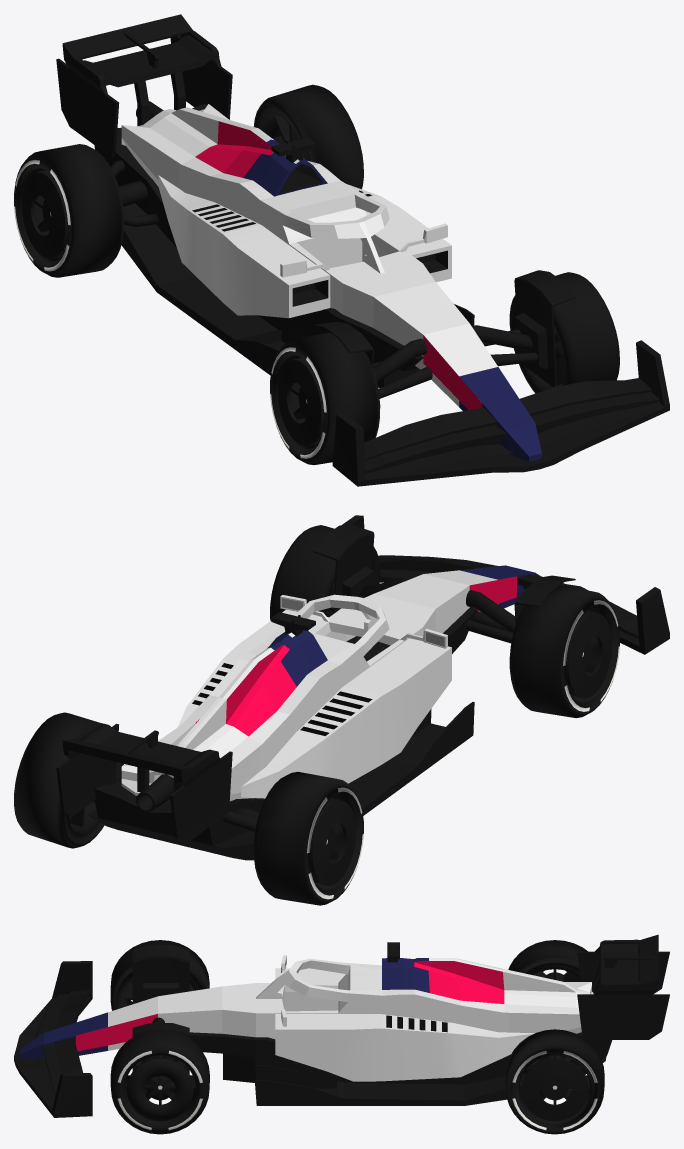
The model's file is redbullvisa_car.glb.
3 views of the same model, one above another, from view 1: azimuth 30°, elevation 25°; view 2: azimuth 150°, elevation 25°; view 3: azimuth 270°, elevation 25° (orthographic). The views are drawn at different scales.
Visible parts, largest first — view 1: Base Unsubsurfed, Front Wing Base, Sidepod, Rear Wing, Bottom, RR_Tire, FR_Tire, FL_Tire, RL_Tire, L_Inside Cover, FRod, RRod (+1 smaller); view 2: Base Unsubsurfed, Sidepod, RR_Tire, FR_Tire, Rear Wing, Bottom, RL_Tire, Front Wing Base, FL_Tire, L_Inside Cover, FRod, R_Inside Cover (+3 smaller); view 3: Base Unsubsurfed, Sidepod, Bottom, RL_Tire, FL_Tire, Rear Wing, Front Wing Base, R_Inside Cover, RR_Tire, FR_Tire, L_Inside Cover.
Part boxes in pixels (bbox=[...]): Base Unsubsurfed: bbox=[121, 104, 541, 461]; Front Wing Base: bbox=[332, 340, 669, 486]; Sidepod: bbox=[158, 175, 451, 318]; Rear Wing: bbox=[56, 14, 232, 157]; Bottom: bbox=[94, 103, 474, 387]; RR_Tire: bbox=[14, 144, 124, 277]; FR_Tire: bbox=[270, 332, 380, 464]; FL_Tire: bbox=[509, 272, 619, 393]; RL_Tire: bbox=[253, 84, 363, 189]; L_Inside Cover: bbox=[514, 270, 575, 387]; FRod: bbox=[373, 325, 538, 398]; RRod: bbox=[110, 160, 158, 227]; Base Unsubsurfed: bbox=[121, 565, 539, 801]; Sidepod: bbox=[178, 609, 451, 798]; RR_Tire: bbox=[253, 771, 363, 905]; FR_Tire: bbox=[509, 585, 619, 718]; Rear Wing: bbox=[56, 722, 232, 843]; Bottom: bbox=[87, 607, 477, 860]; RL_Tire: bbox=[14, 712, 123, 848]; Front Wing Base: bbox=[342, 515, 669, 654]; FL_Tire: bbox=[270, 525, 380, 620]; L_Inside Cover: bbox=[313, 524, 374, 614]; FRod: bbox=[353, 576, 515, 643]; R_Inside Cover: bbox=[514, 575, 575, 624]; Base Unsubsurfed: bbox=[20, 955, 593, 1060]; Sidepod: bbox=[275, 968, 534, 1081]; Bottom: bbox=[189, 1032, 612, 1105]; RL_Tire: bbox=[505, 1029, 604, 1134]; FL_Tire: bbox=[110, 1031, 209, 1134]; Rear Wing: bbox=[577, 934, 669, 1039]; Front Wing Base: bbox=[14, 961, 92, 1117]; R_Inside Cover: bbox=[132, 945, 189, 1003]; RR_Tire: bbox=[508, 940, 587, 981]; FR_Tire: bbox=[110, 940, 209, 1010]; L_Inside Cover: bbox=[132, 1023, 189, 1089].
Size of the model in its own units: 5.15 by 2.77 by 12.15.
